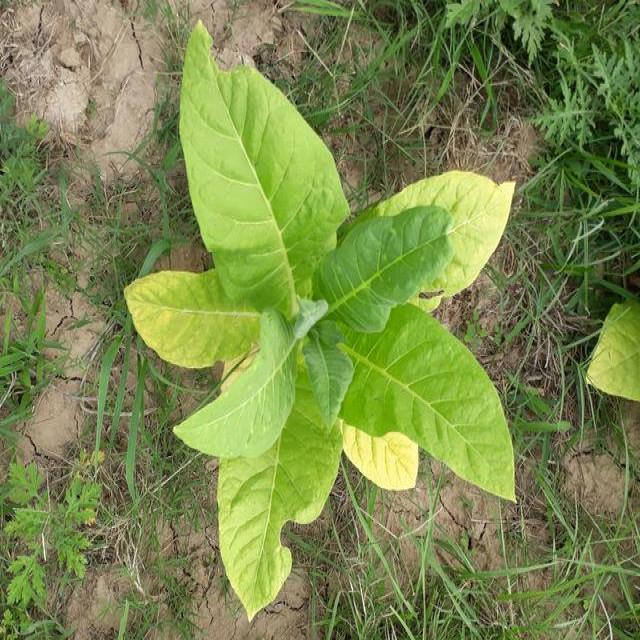crop: (124, 31, 514, 584), (588, 307, 640, 413)
